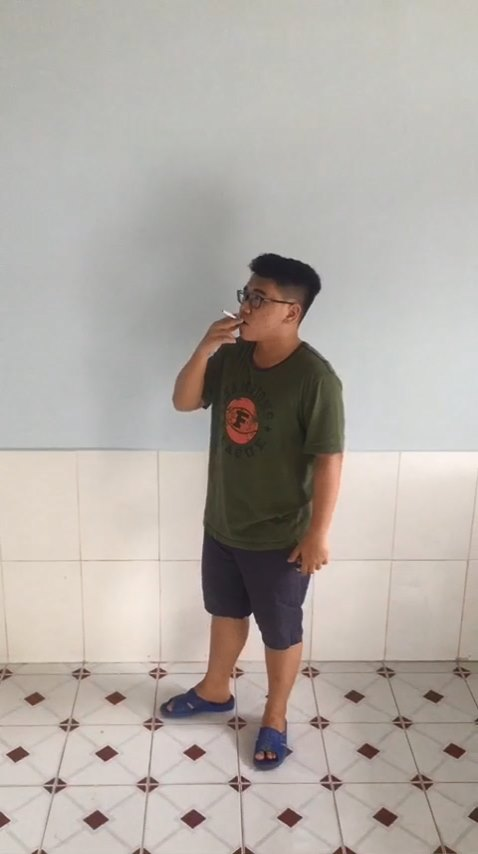cigarette: (219, 306, 239, 333)
person: (147, 236, 358, 792)
